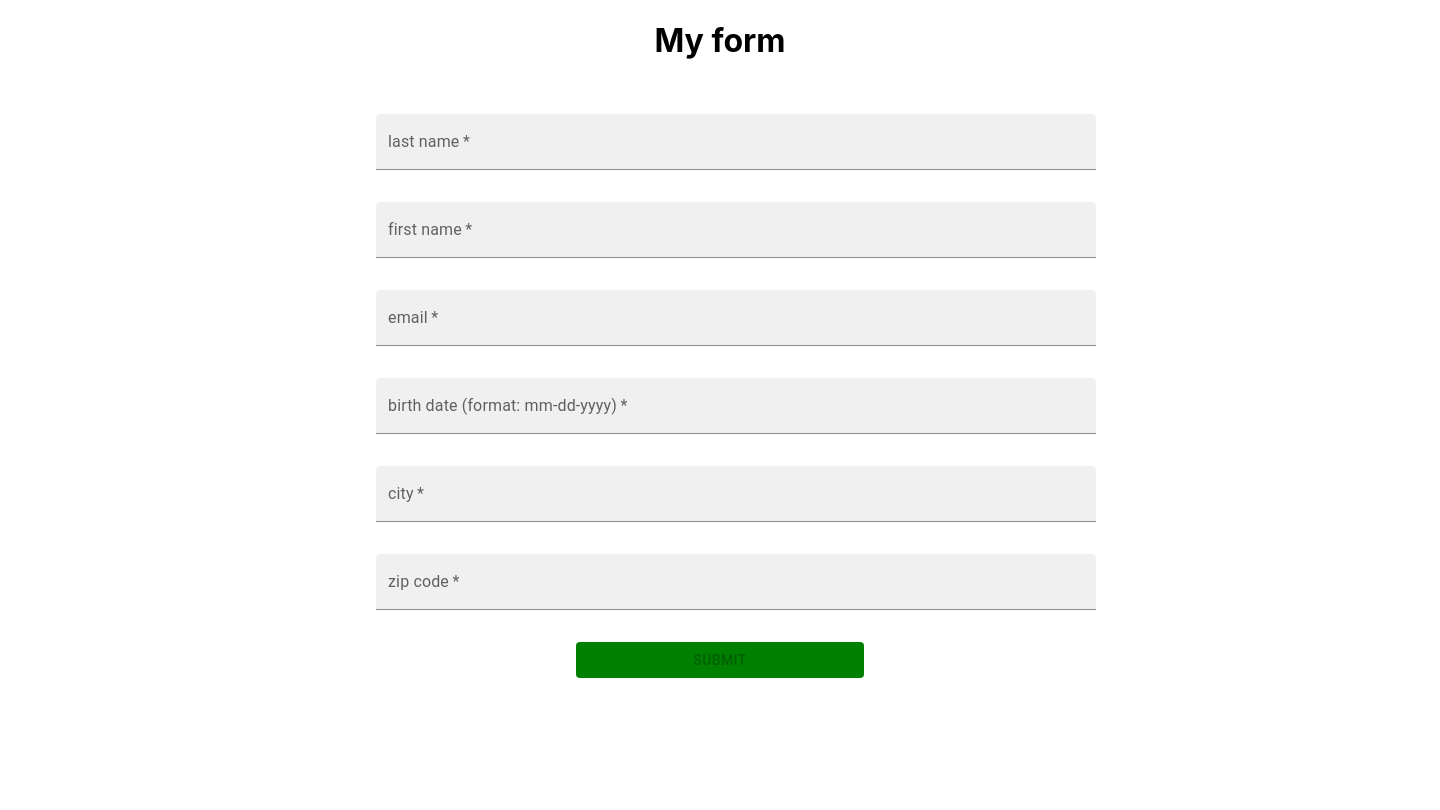
Test case: App component › display error toast when form is invalid
The image size is (1440, 810).
Type "Ri$3)2abi" into the field with test id "lastName" at [736, 142], box [376,114,1096,170]
Type "Jas<)=3mine" into the field with test id "firstName" at [736, 230], box [376,202,1096,258]
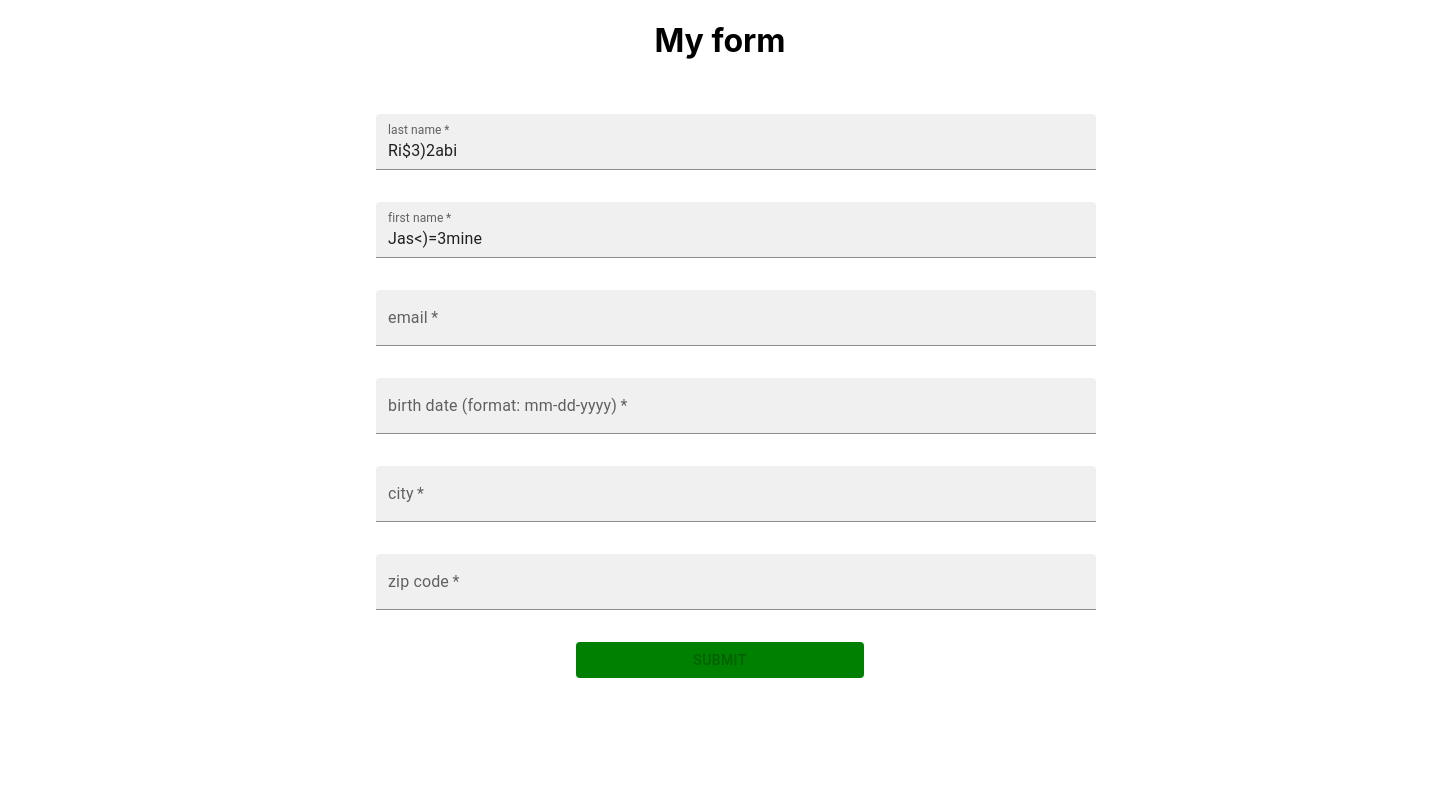
Type "jasminemail.com" into the field with test id "email" at [736, 318], box [376,290,1096,346]
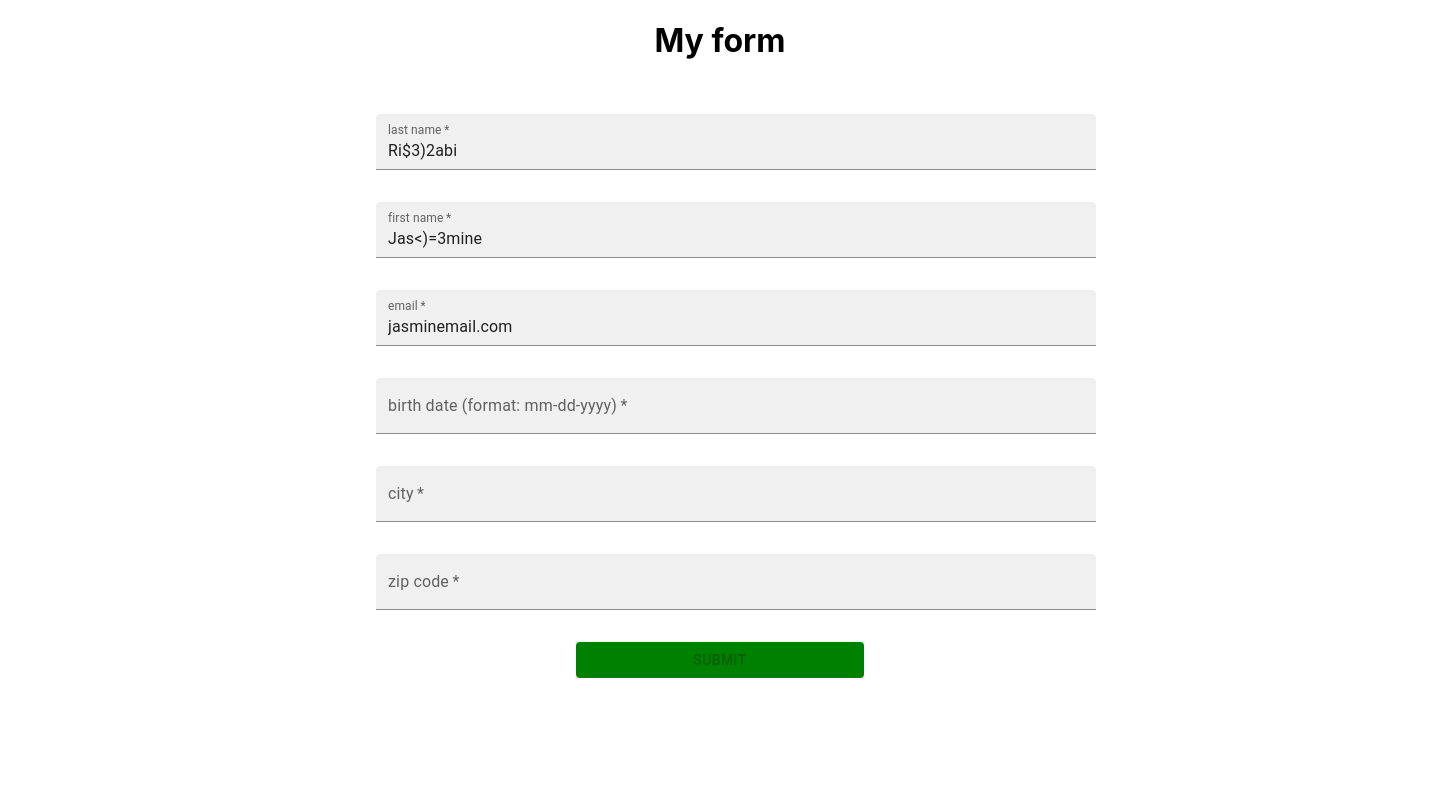
Type "29-07-2030" into the field with test id "birthDate" at [736, 406], box [376,378,1096,434]
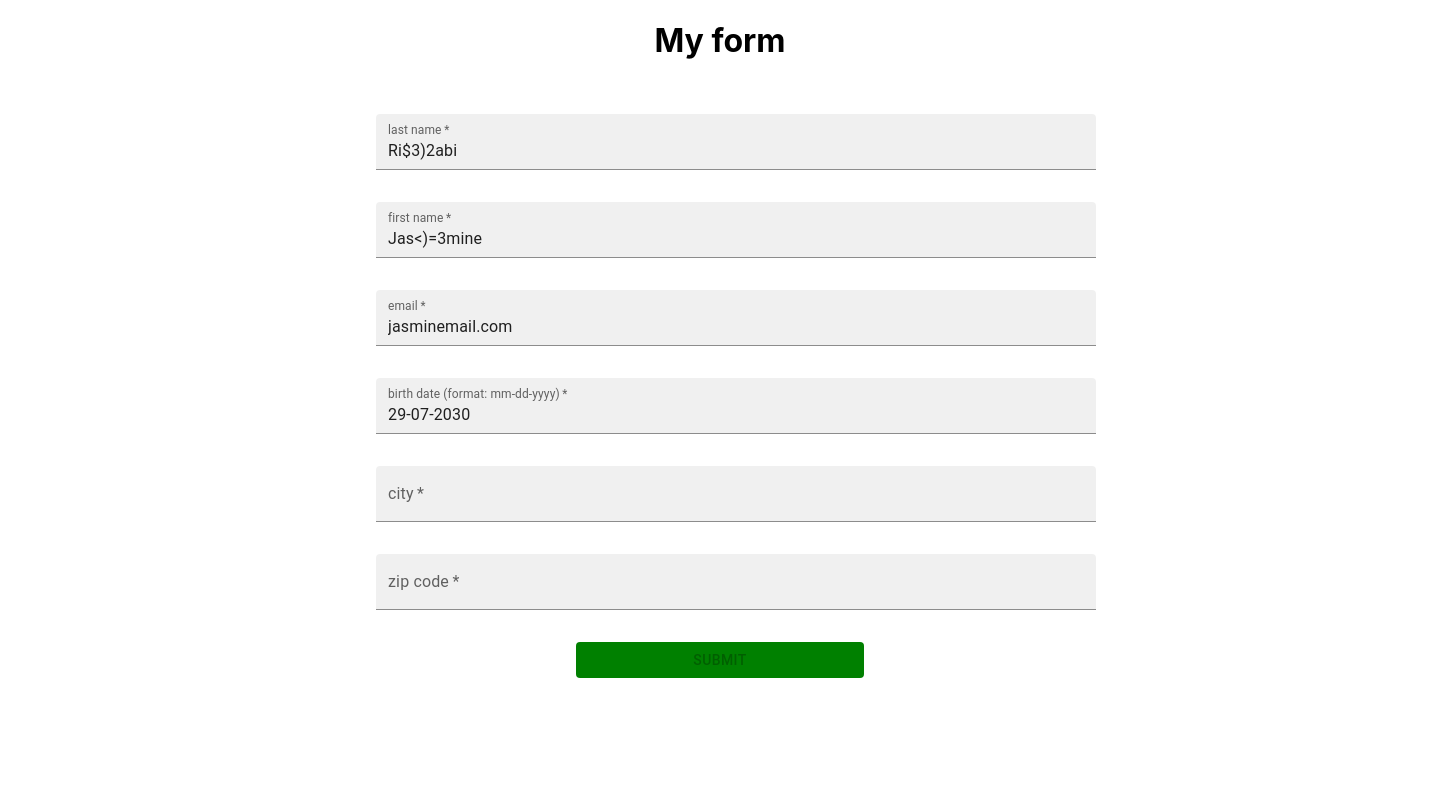
Type "Nice" into the field with test id "city" at [736, 494], box [376,466,1096,522]
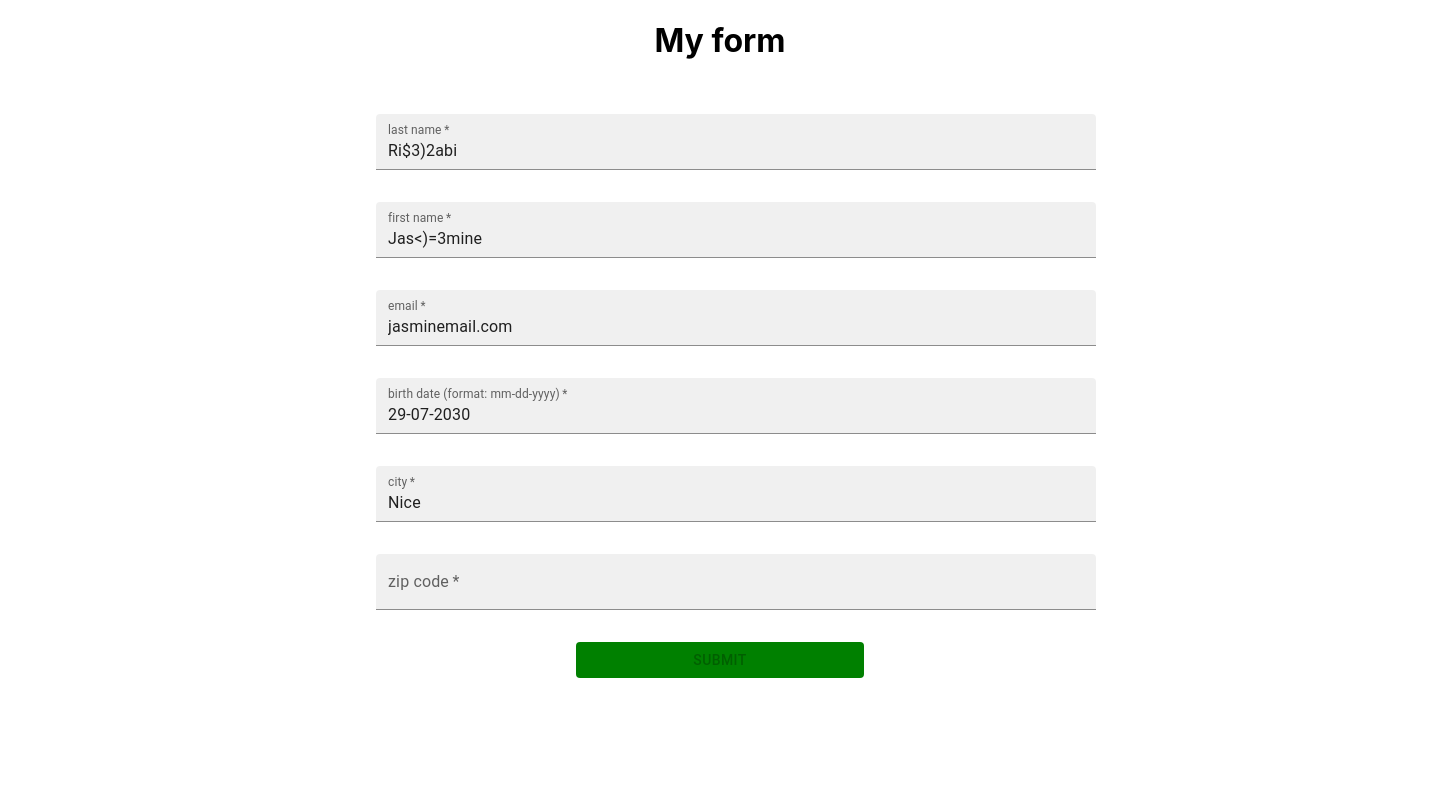
Type "06P000" into the field with test id "zipCode" at [736, 582], box [376,554,1096,610]
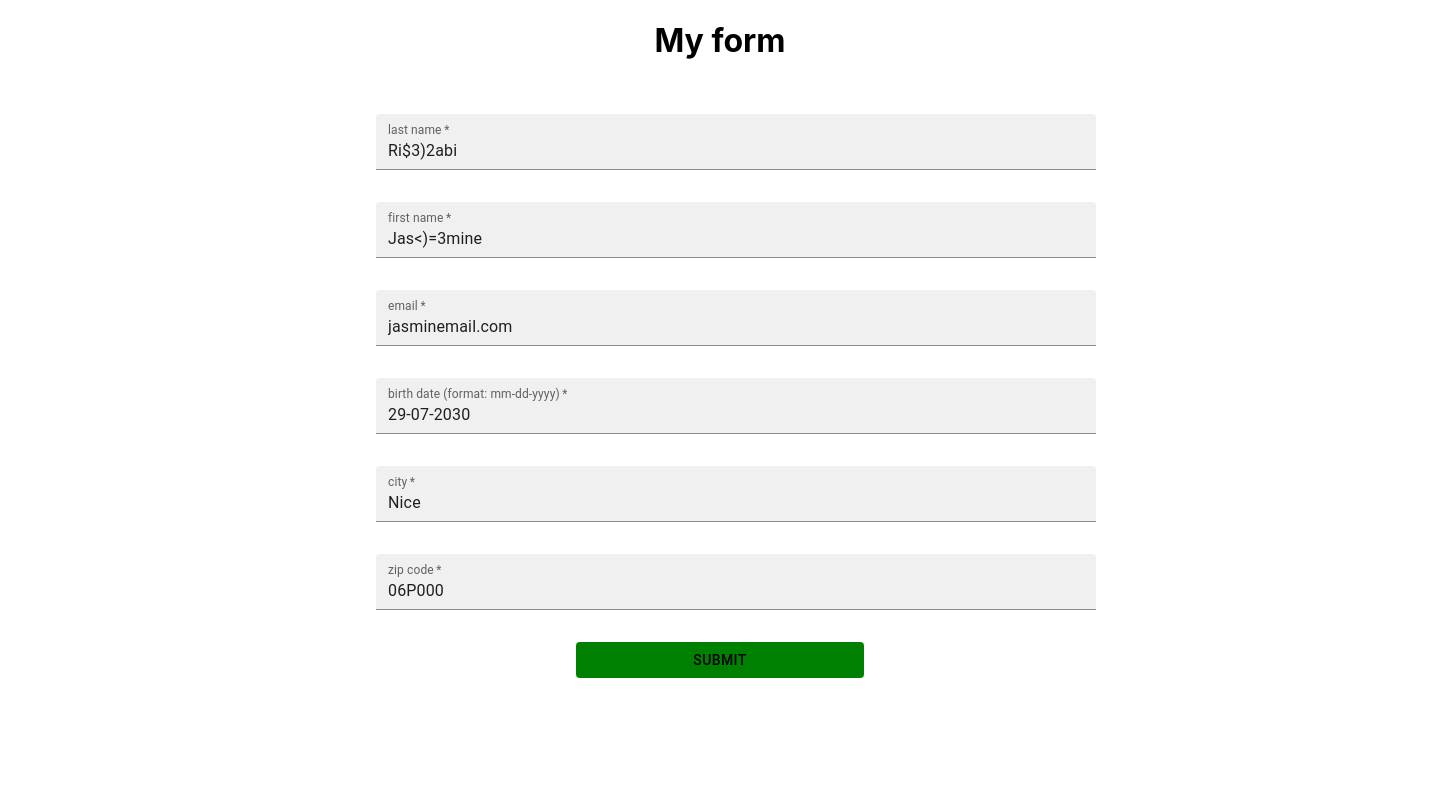
Click the button "Submit" at [720, 660], box [576,642,864,678]
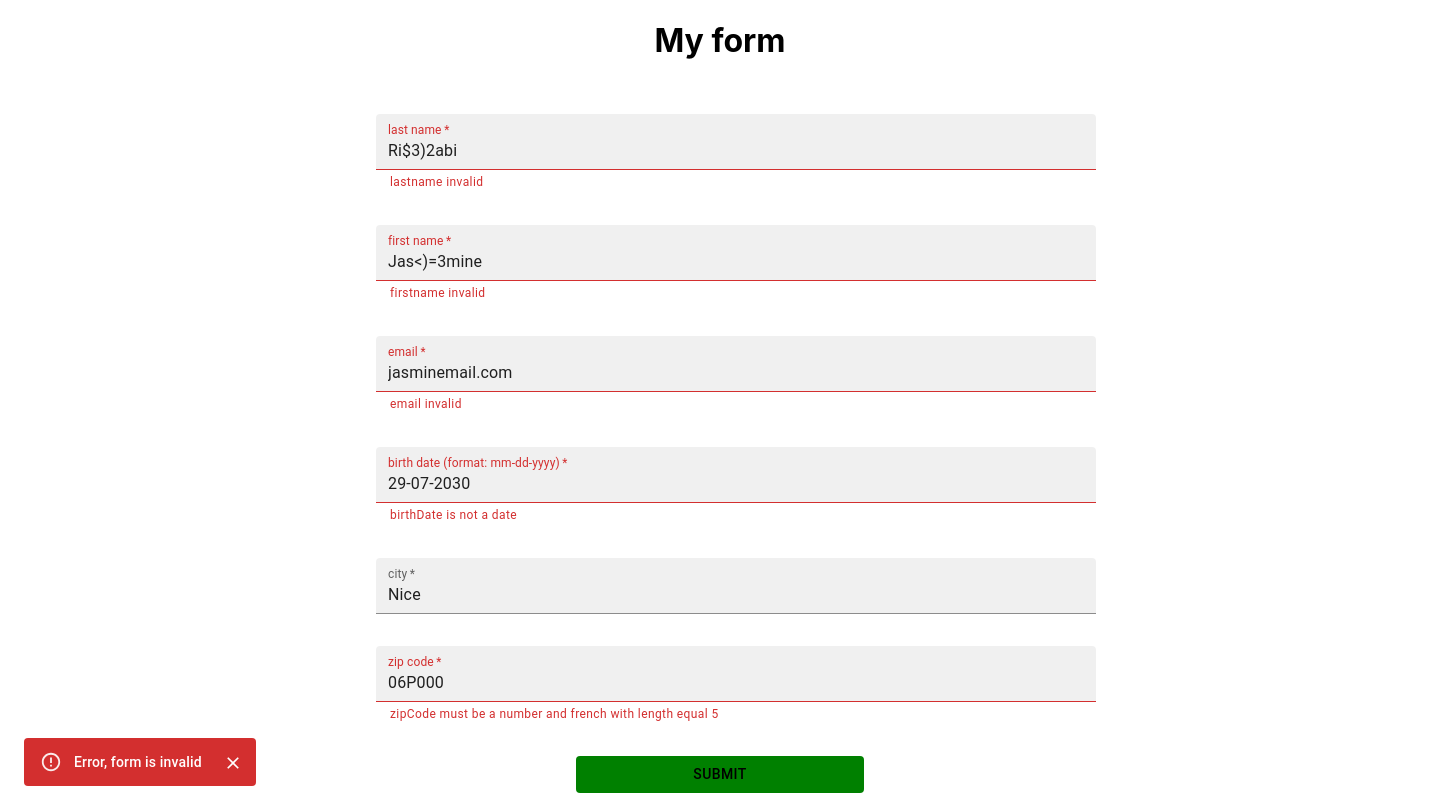
Check: the text "Error, form is invalid" is shown, box [74,754,202,770]
